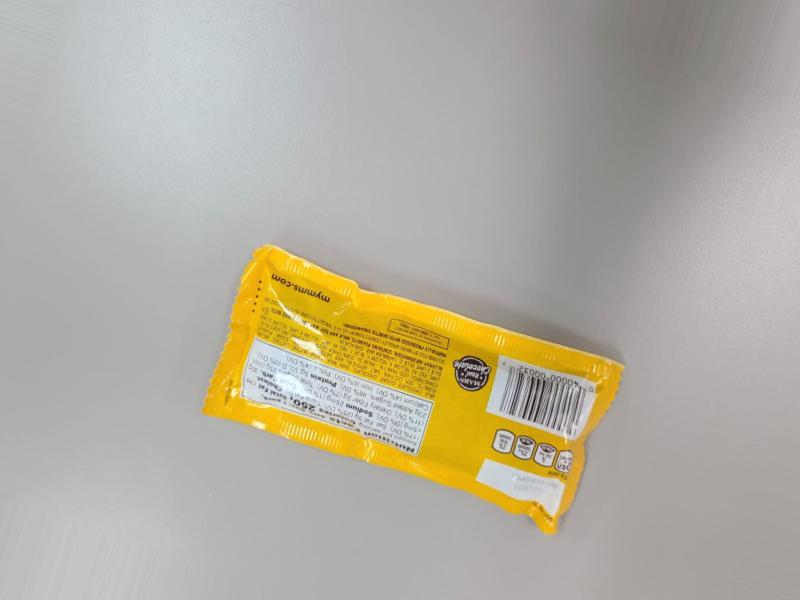m&m: (168, 243, 617, 540)
